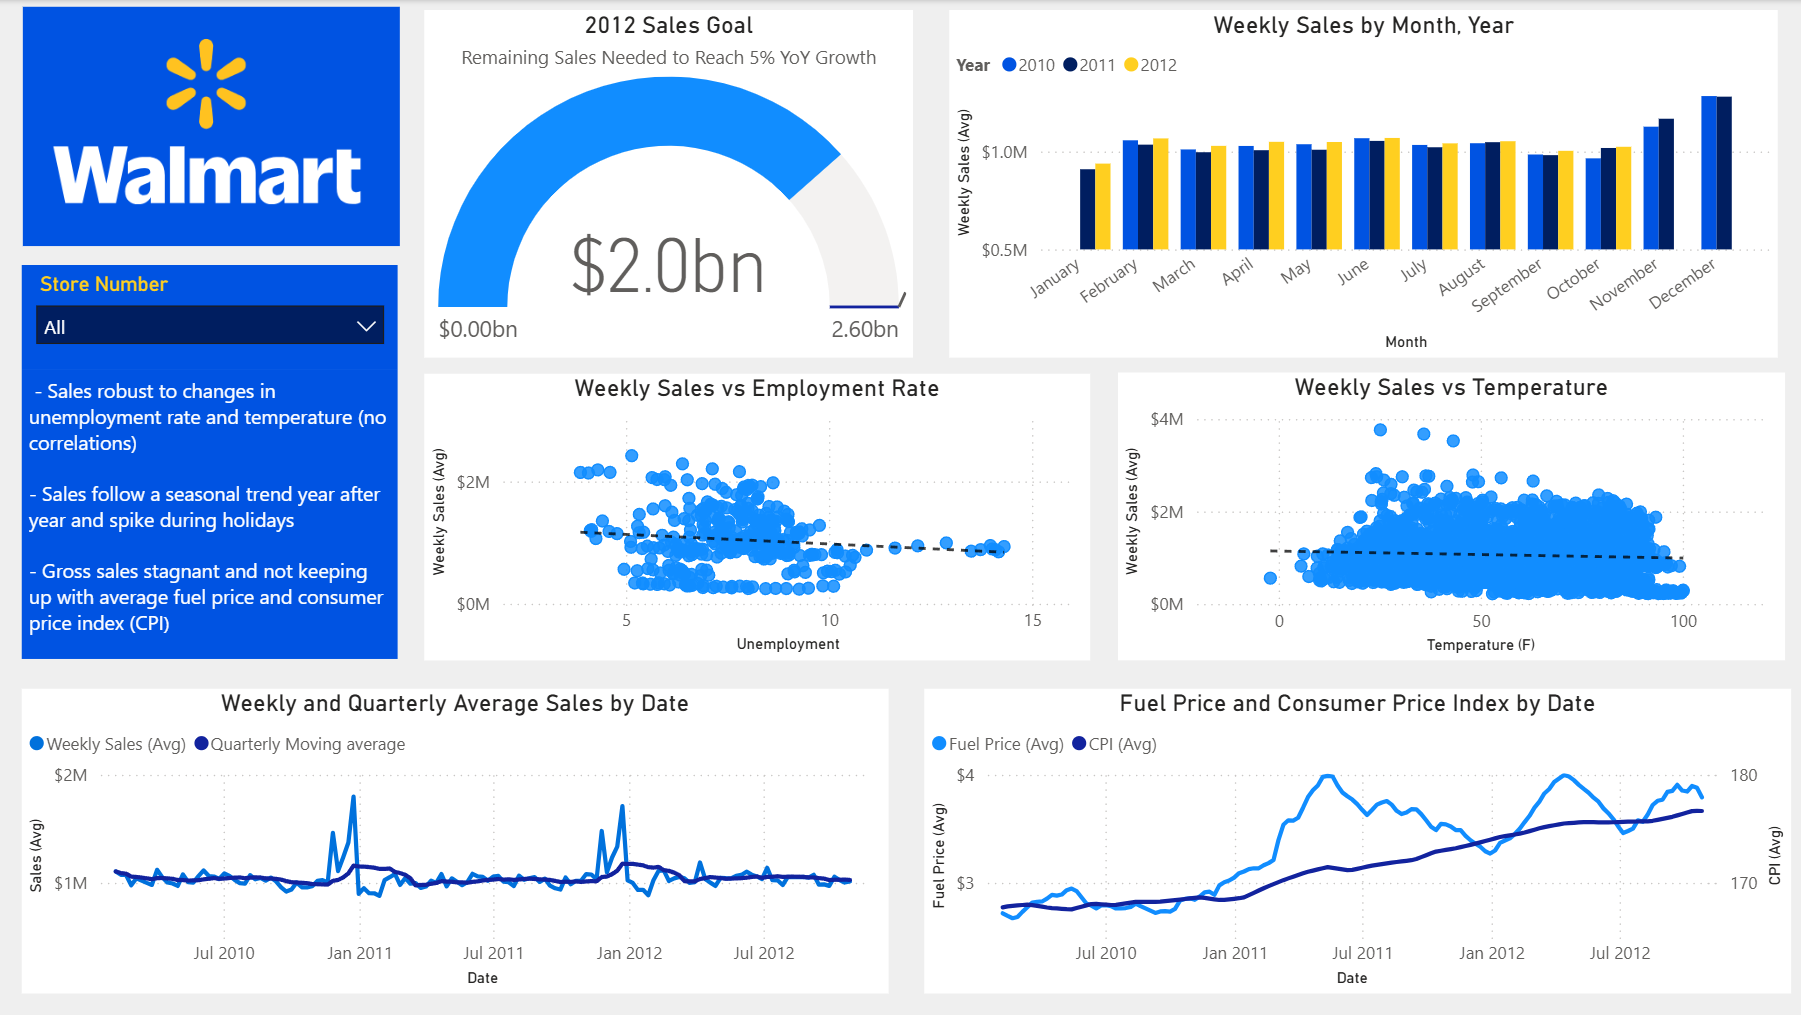

This screenshot's page, from the dashboard's own definition file:
{"tool":"powerbi","page":{"name":"Analysis","canvas":[1280,720],"ordinal":1},"visuals":[{"type":"slicer","fields":{"Values":["Walmart_Store_sales.Store Number"]},"box":[17.2,187.9,266.7,74.7],"z":0,"group":"g1"},{"type":"image","box":[0,0,301.7,179.2],"z":1000},{"type":"clusteredColumnChart","title":"Weekly Sales by Month, Year","fields":{"Category":["Calendar.Date.Variation.Date Hierarchy.Month"],"Y":["Avg(Walmart_Store_sales.Weekly_Sales)"],"Series":["Calendar.Date.Variation.Date Hierarchy.Year"]},"box":[674.2,6.7,587.5,246.7],"z":2000},{"type":"lineChart","title":"Fuel Price and Consumer Price Index by Date","fields":{"Category":["Walmart_Store_sales.Date.Variation.Date Hierarchy.Month"],"Y":["Avg(Walmart_Store_sales.Fuel_Price)"],"Y2":["Avg(Walmart_Store_sales.CPI)"]},"box":[656.7,488.3,614.2,215.8],"z":3000},{"type":"scatterChart","title":"Weekly Sales vs Employment Rate","fields":{"X":["Walmart_Store_sales.Unemployment"],"Y":["Avg(Walmart_Store_sales.Weekly_Sales)"]},"box":[302,264.6,471.7,203],"z":4000},{"type":"gauge","title":"2012 Sales Goal","fields":{"Y":["Walmart_Store_sales.Total Sales"],"TargetValue":["Calendar.2012 Sales Goal"],"MaxValue":["Calendar.2012 Sales Goal"]},"box":[301.7,6.7,346.7,246.7],"z":5000},{"type":"lineChart","title":"Weekly and Quarterly Average Sales by Date","fields":{"Y":["Avg(Walmart_Store_sales.Weekly_Sales)","select"],"Category":["Walmart_Store_sales.Date.Variation.Date Hierarchy.Day"]},"box":[16.7,488.3,614.2,215.8],"z":6000},{"type":"scatterChart","title":"Weekly Sales vs Temperature","fields":{"X":["Walmart_Store_sales.Temperature"],"Y":["Avg(Walmart_Store_sales.Weekly_Sales)"]},"box":[793.9,263.6,472.7,204],"z":7000},{"type":"textbox","box":[16.7,253.4,266.7,214.4],"z":8000,"group":"g1"},{"type":"group","id":"g1","title":"Group 1","box":[16.7,187.9,267.2,279.9],"z":8001}]}

Visuals, with their boxes in screenshot pixels (x1, y1, x2, y2), scaled from the page's 1280x720 canvas onto the 1801x1015 screenshot:
slicer - Walmart_Store_sales.Store Number: locate(24, 265, 399, 370)
image: locate(0, 0, 425, 253)
"Weekly Sales by Month, Year" clusteredColumnChart: locate(949, 9, 1775, 357)
"Fuel Price and Consumer Price Index by Date" lineChart: locate(924, 688, 1788, 993)
"Weekly Sales vs Employment Rate" scatterChart: locate(425, 373, 1089, 659)
"2012 Sales Goal" gauge: locate(425, 9, 912, 357)
"Weekly and Quarterly Average Sales by Date" lineChart: locate(23, 688, 888, 993)
"Weekly Sales vs Temperature" scatterChart: locate(1117, 372, 1782, 659)
textbox: locate(23, 357, 399, 659)
"Group 1" group: locate(23, 265, 399, 659)
